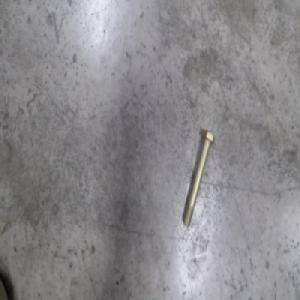Bolt: (180, 128, 215, 228)
